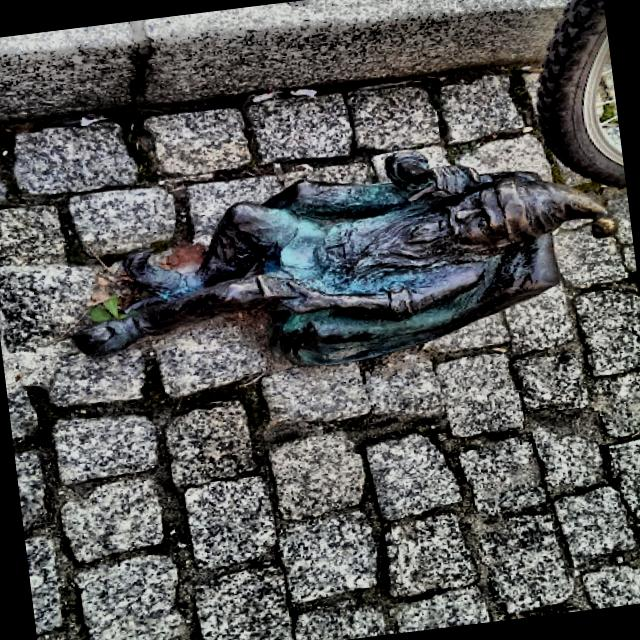Dialogomir: (71, 150, 620, 366)
